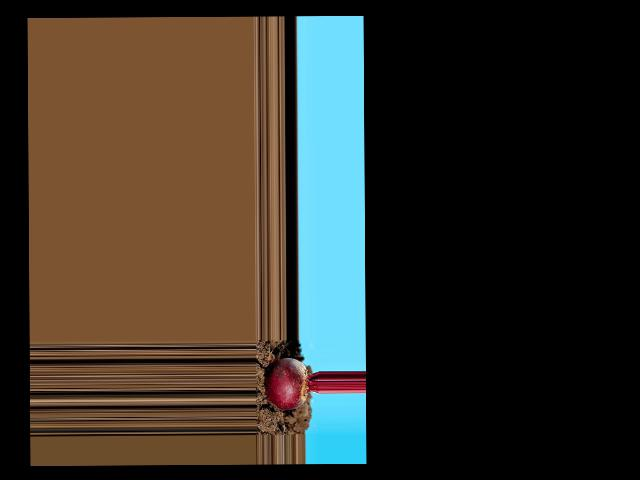beet: (264, 357, 319, 409)
